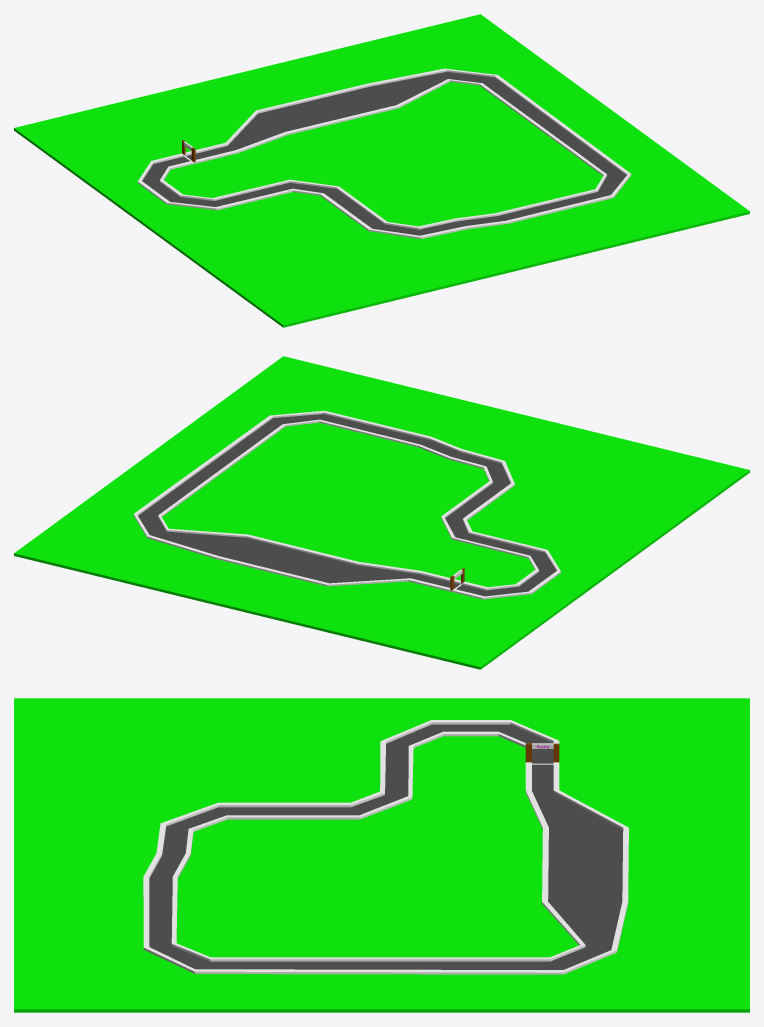
The model's file is Level 2 Track.fbx.
The picture shows the model from 3 angles, top to bottom: view 1: azimuth 30°, elevation 25°; view 2: azimuth 150°, elevation 25°; view 3: azimuth 270°, elevation 25°; orthographic projection. The views are drawn at different scales.
Visible parts, largest first — view 1: Plane, Track; view 2: Plane, Track; view 3: Plane, Track.
Boxes of the visible parts, left/top/right/bottom form: Plane: left=14, top=14, right=749, bottom=327; Track: left=137, top=68, right=631, bottom=238; Plane: left=14, top=356, right=749, bottom=669; Track: left=133, top=410, right=560, bottom=599; Plane: left=14, top=698, right=749, bottom=1012; Track: left=143, top=720, right=628, bottom=974.
Size of the model in its own units: 2596 by 92.13 by 2596.
